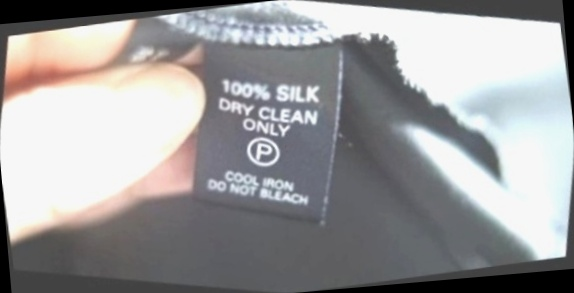dry_clean_any_solvent_except_trichloroethylene: (238, 125, 291, 177)
